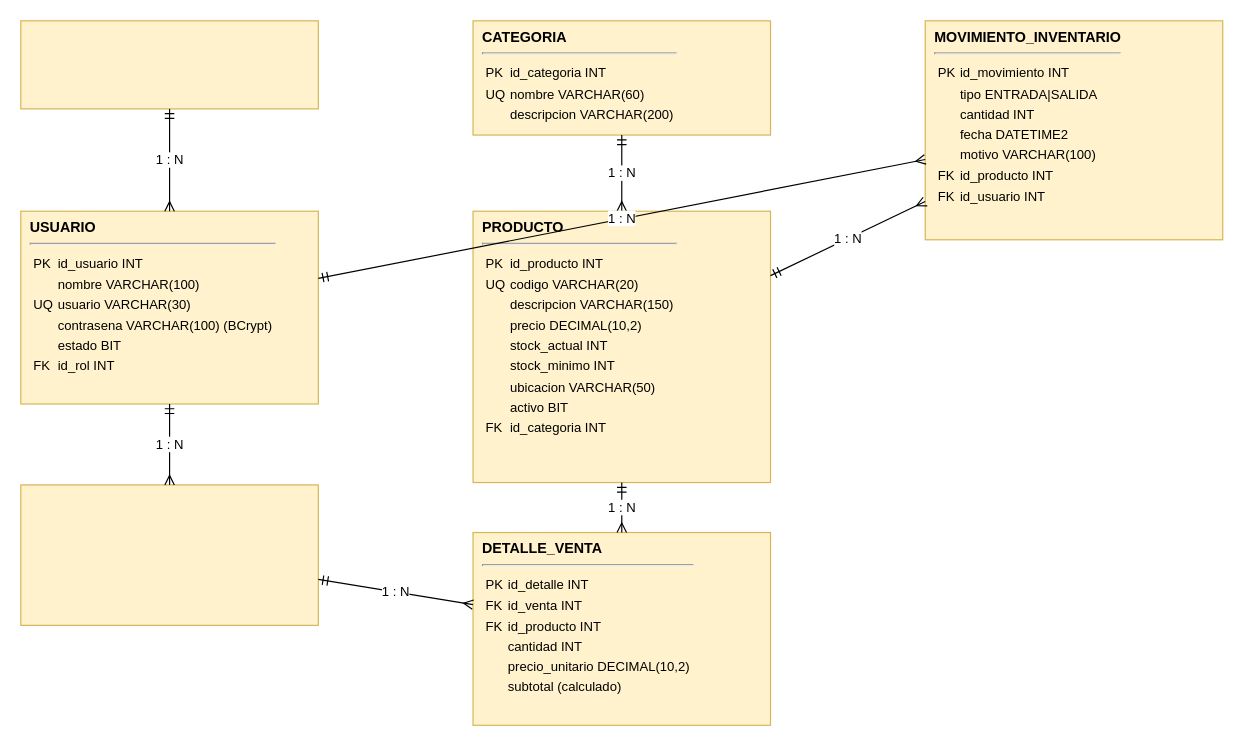
Some shapes in this 1244 by 746 pixel diagram are drawn without their labels. The centre of each missing label's shape, as x and y in pixels:
"ROL PK id_rol INT UQ nombre VARCHAR(30)" belongs at pixel 169 64.
"VENTA PK id_venta INT fecha DATETIME2 total DECIMAL(12,2) FK id_usuario INT" belongs at pixel 169 554.
